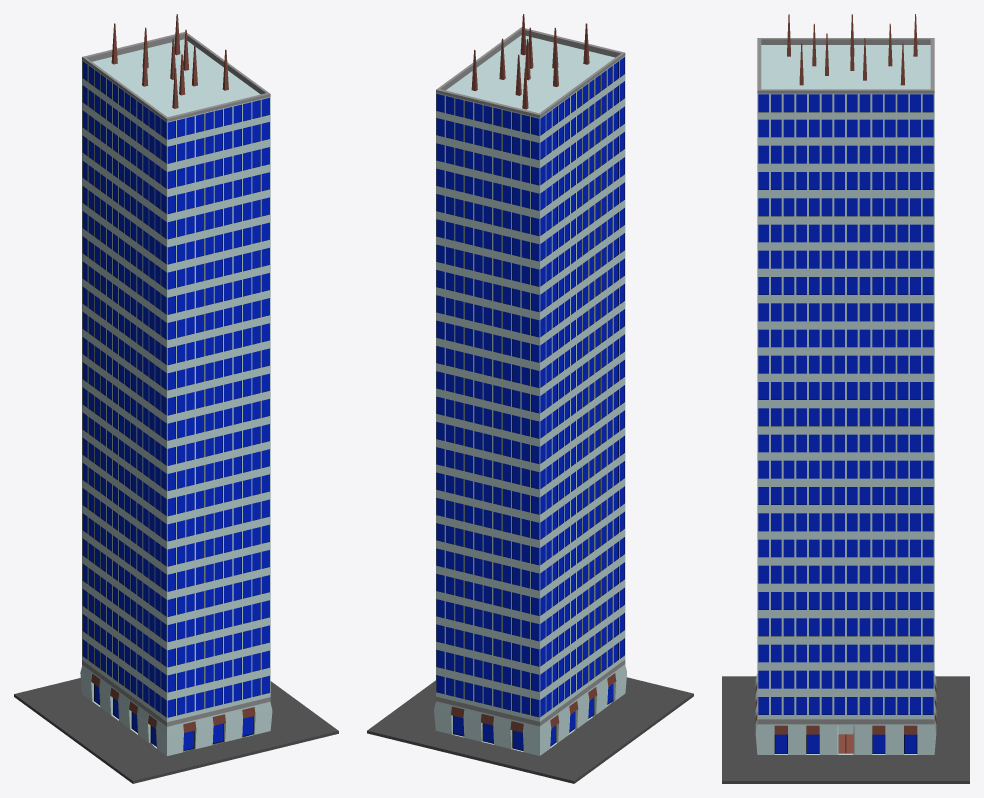
Rendered from Immeuble2_3.glb.
3 views of the same model, side by side, from view 1: azimuth 30°, elevation 25°; view 2: azimuth 150°, elevation 25°; view 3: azimuth 270°, elevation 25° (orthographic). The views are drawn at different scales.
Parts seen in each view (by area): view 1: Immeuble2_3; view 2: Immeuble2_3; view 3: Immeuble2_3.
Boxes of the visible parts, x1,y1,x2,y2 form: Immeuble2_3: (14, 14, 338, 783); Immeuble2_3: (367, 14, 693, 783); Immeuble2_3: (722, 14, 969, 783).
Size of the model in its own units: 25 by 78.21 by 25.
